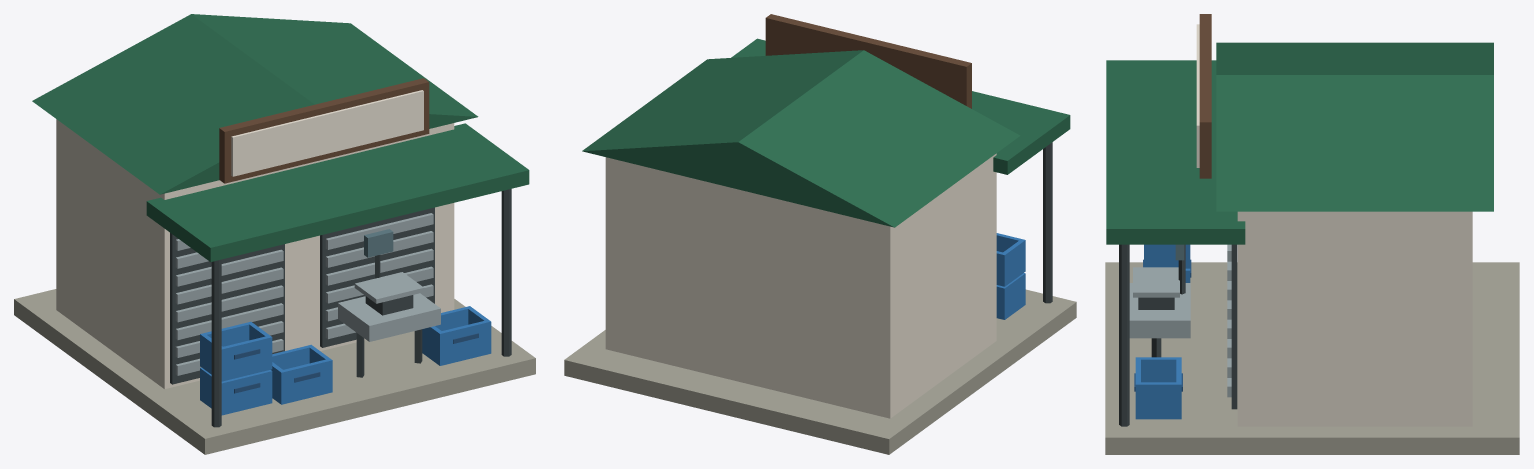
File: fish-market.glb
3 renders of one model, left to right at view 1: azimuth 30°, elevation 25°; view 2: azimuth 150°, elevation 25°; view 3: azimuth 270°, elevation 25°, orthographic. The views are drawn at different scales.
Visible parts, largest first — view 1: Green, Ivory, Concrete, Steel, Metal, FishBox, Sign, WoodDark, Window, HarborBlue; view 2: Ivory, Green, Concrete, WoodDark, FishBox, Metal; view 3: Green, Ivory, Concrete, Steel, Metal, FishBox, WoodDark, Sign.
Part boxes in pixels (x1=…): Green: x1=32, y1=14, x2=529, y2=261; Ivory: x1=56, y1=119, x2=454, y2=389; Concrete: x1=14, y1=289, x2=535, y2=454; Steel: x1=175, y1=213, x2=440, y2=375; Metal: x1=170, y1=189, x2=511, y2=427; FishBox: x1=200, y1=306, x2=491, y2=415; Sign: x1=231, y1=90, x2=423, y2=176; WoodDark: x1=219, y1=78, x2=429, y2=183; Window: x1=364, y1=229, x2=393, y2=257; HarborBlue: x1=234, y1=333, x2=478, y2=393; Ivory: x1=605, y1=153, x2=996, y2=418; Green: x1=582, y1=38, x2=1070, y2=227; Concrete: x1=564, y1=289, x2=1076, y2=454; WoodDark: x1=765, y1=14, x2=971, y2=108; FishBox: x1=996, y1=233, x2=1025, y2=319; Metal: x1=1043, y1=142, x2=1052, y2=303; Green: x1=1106, y1=42, x2=1493, y2=244; Ivory: x1=1237, y1=211, x2=1472, y2=426; Concrete: x1=1105, y1=262, x2=1519, y2=454; Steel: x1=1129, y1=244, x2=1231, y2=397; Metal: x1=1119, y1=244, x2=1237, y2=426; FishBox: x1=1135, y1=244, x2=1190, y2=419; WoodDark: x1=1199, y1=14, x2=1211, y2=178; Sign: x1=1196, y1=24, x2=1199, y2=167.
Bounding box in the file's own units: 1.94 × 1.54 × 1.94.
